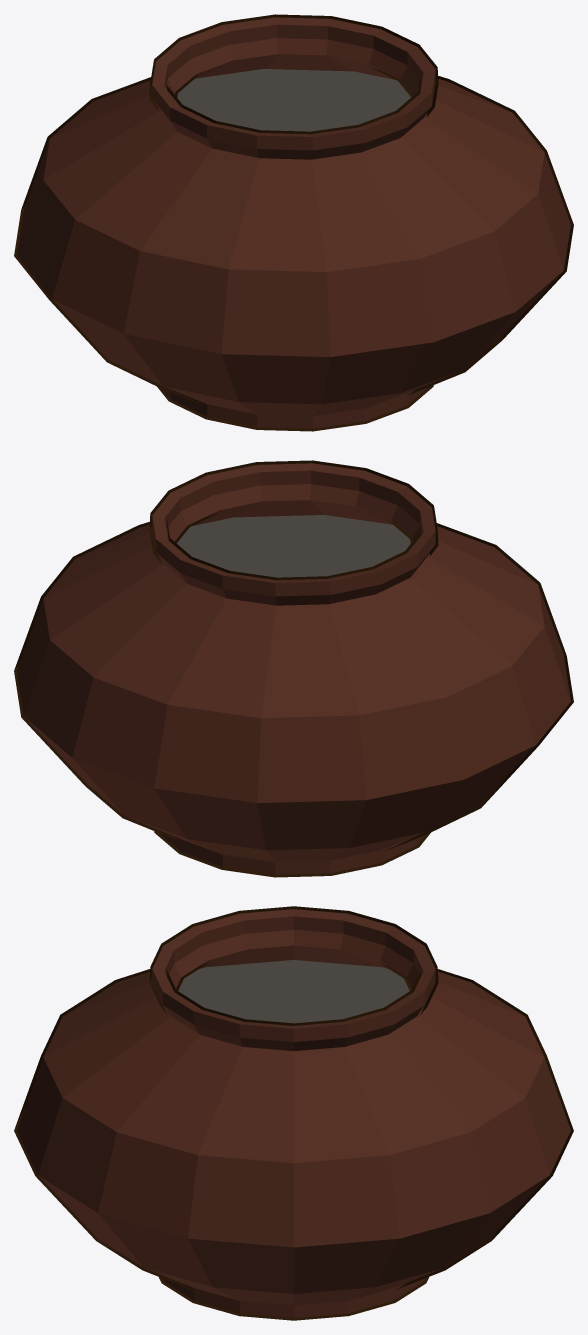
Rendered from SmallPot_(Outlined)_v002.fbx.
The picture shows the model from 3 angles, top to bottom: view 1: azimuth 30°, elevation 25°; view 2: azimuth 150°, elevation 25°; view 3: azimuth 270°, elevation 25°; orthographic projection.
Parts seen in each view (by area): view 1: Sphere.003; view 2: Sphere.003; view 3: Sphere.003.
Boxes of the visible parts, x1,y1,x2,y2 form: Sphere.003: (14, 14, 573, 431); Sphere.003: (14, 460, 573, 877); Sphere.003: (14, 906, 573, 1320).
Size of the model in its own units: 187 by 108 by 187.
